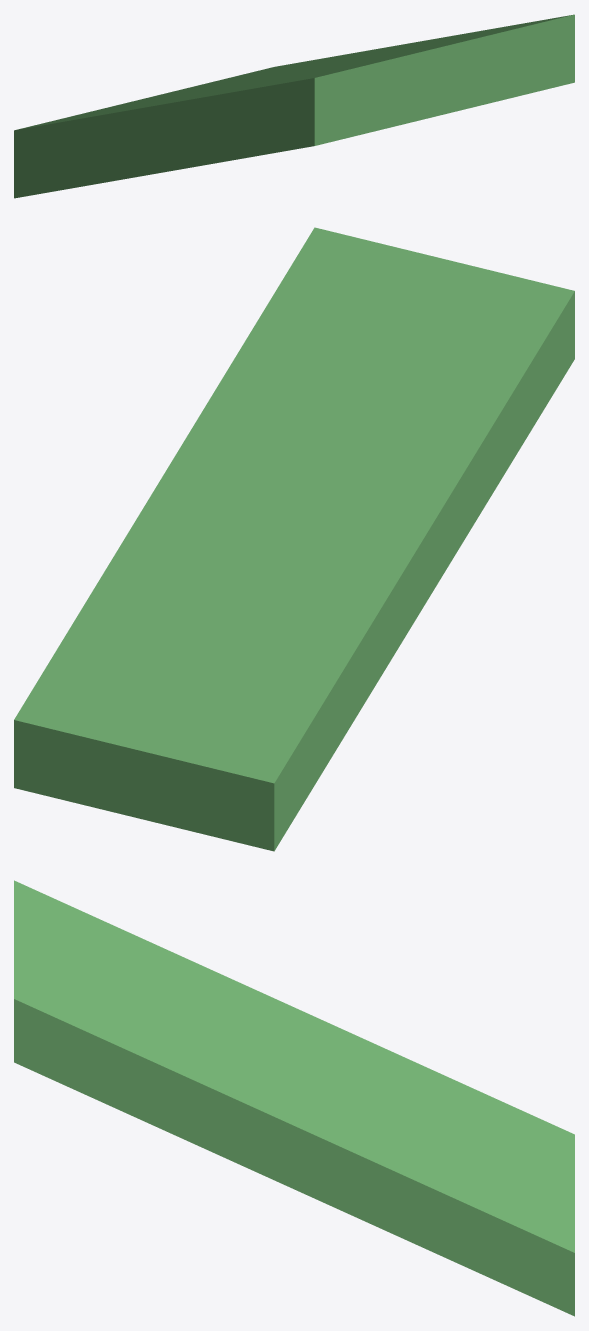
The model's file is SM_Ramp2_1m.fbx.
3 views of the same model, one above another, from view 1: azimuth 30°, elevation 25°; view 2: azimuth 150°, elevation 25°; view 3: azimuth 270°, elevation 25° (orthographic). The views are drawn at different scales.
Visible parts, largest first — view 1: SM_Ramp2_1m; view 2: SM_Ramp2_1m; view 3: SM_Ramp2_1m.
Part boxes in pixels (left/top/right/bottom): SM_Ramp2_1m: left=14, top=14, right=574, bottom=198; SM_Ramp2_1m: left=14, top=227, right=574, bottom=851; SM_Ramp2_1m: left=14, top=880, right=574, bottom=1316.
Size of the model in its own units: 100 by 125 by 200.
